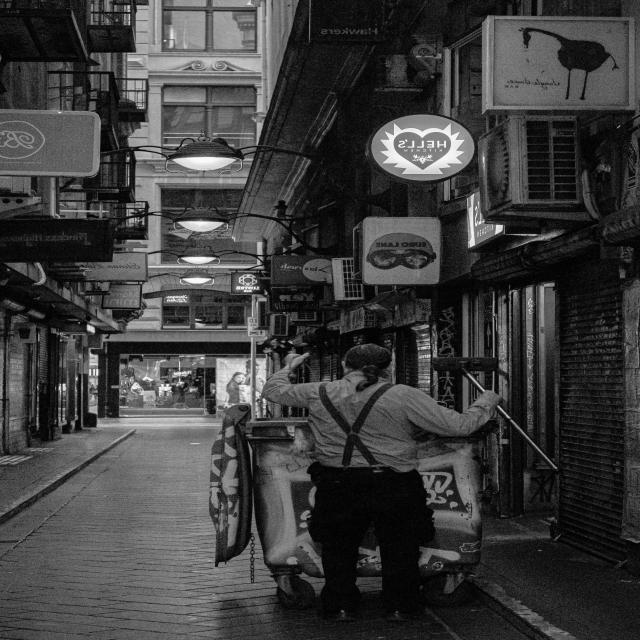adult: (256, 340, 516, 630)
